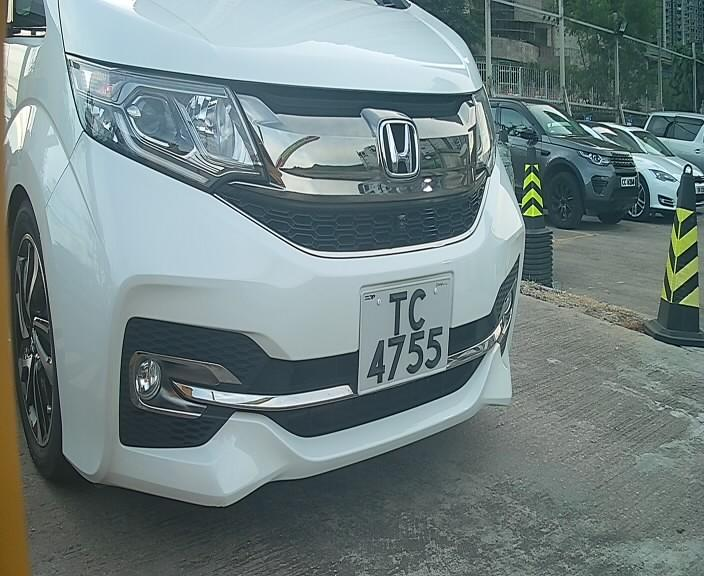License Plate: (346, 268, 466, 402)
